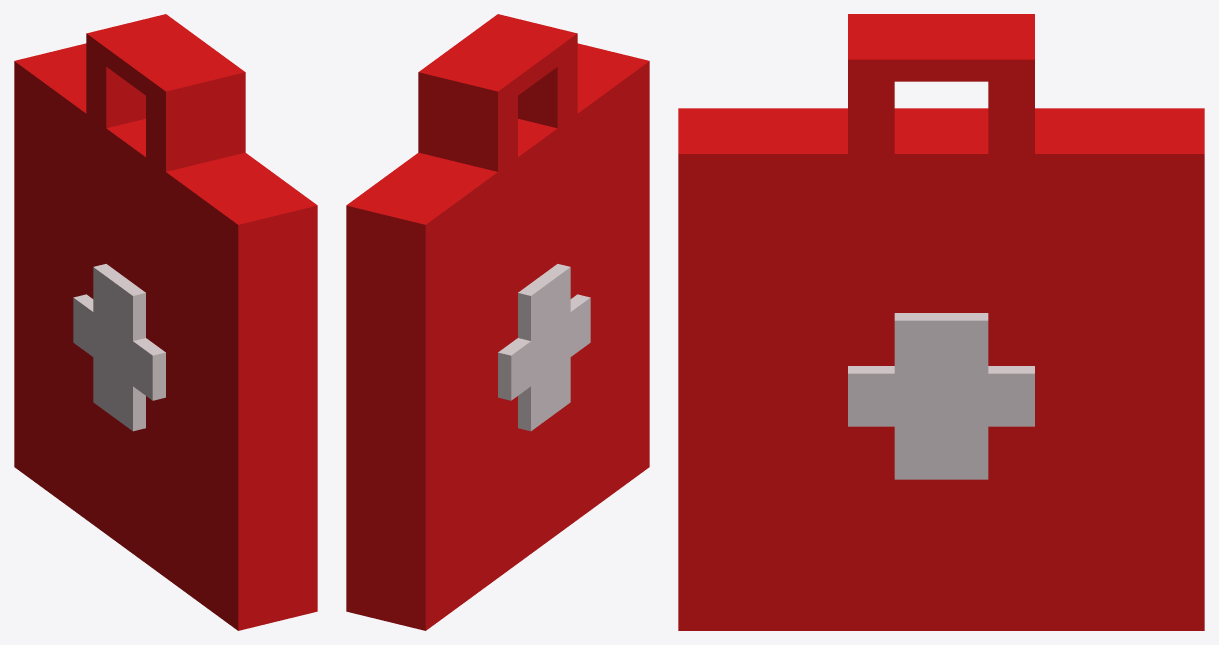
Rendered from Medkit.fbx.
3 renders of one model, left to right at view 1: azimuth 30°, elevation 25°; view 2: azimuth 150°, elevation 25°; view 3: azimuth 270°, elevation 25°, orthographic. The views are drawn at different scales.
Parts seen in each view (by area): view 1: Cube, Cube.001; view 2: Cube, Cube.001; view 3: Cube, Cube.001.
Boxes of the visible parts, left/top/right/bottom form: Cube: left=14, top=14, right=317, bottom=630; Cube.001: left=73, top=264, right=165, bottom=431; Cube: left=346, top=14, right=649, bottom=630; Cube.001: left=498, top=264, right=590, bottom=431; Cube: left=678, top=14, right=1204, bottom=630; Cube.001: left=848, top=313, right=1034, bottom=479.
Size of the model in its own units: 54.55 by 240 by 200.
